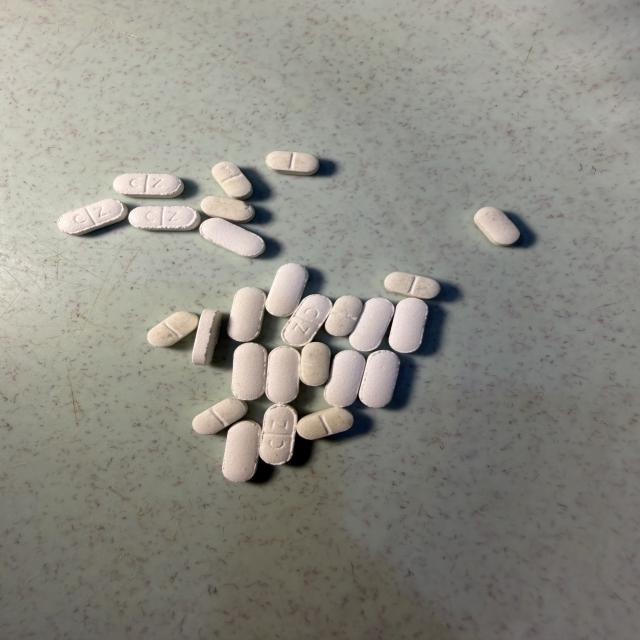pill: (282, 294, 332, 346), (200, 218, 265, 257), (58, 199, 128, 235), (324, 350, 365, 407), (350, 298, 394, 351), (223, 420, 261, 481), (359, 350, 399, 407), (260, 405, 297, 465), (266, 264, 308, 316), (389, 298, 428, 353), (228, 287, 266, 342), (232, 343, 267, 400), (193, 398, 247, 434), (266, 347, 300, 403), (297, 407, 353, 439), (474, 207, 519, 246), (148, 311, 198, 346), (129, 206, 200, 230), (113, 174, 184, 197), (193, 309, 221, 365), (325, 295, 362, 336), (212, 162, 252, 199), (384, 272, 440, 298), (201, 196, 255, 222), (300, 342, 330, 386), (266, 151, 319, 175)
